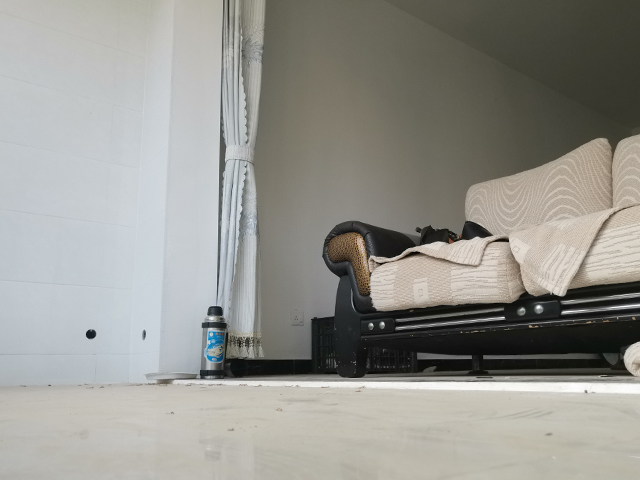curtain: (214, 1, 267, 361)
sofa: (321, 134, 640, 379)
